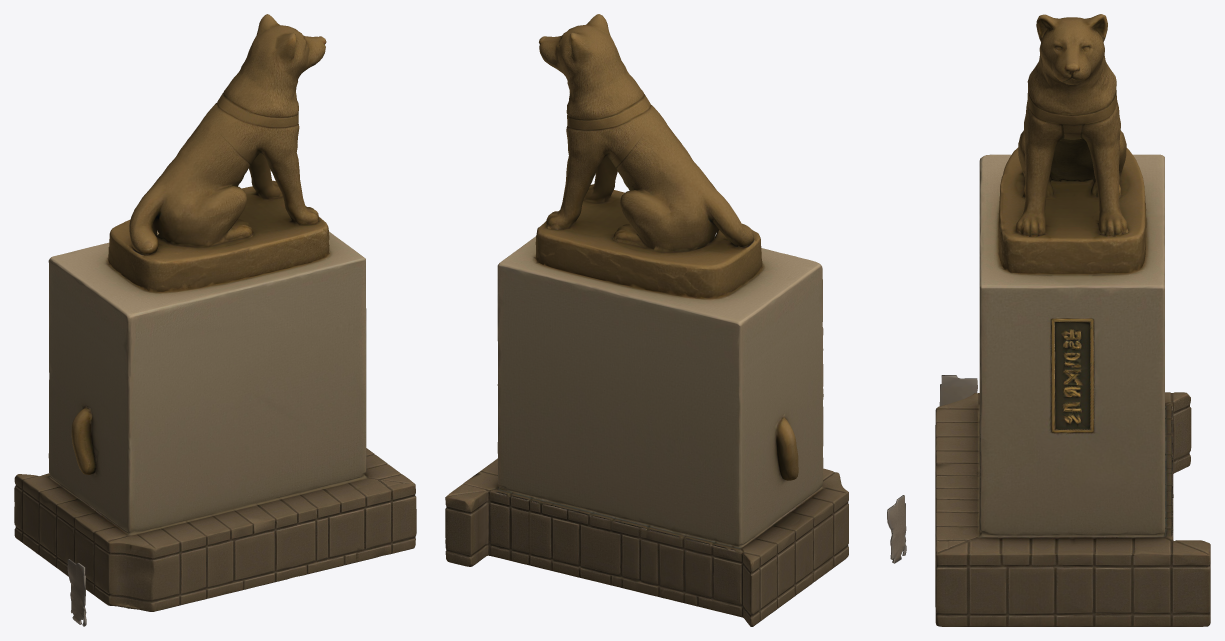
File: hatiko.glb
3 renders of one model, left to right at view 1: azimuth 30°, elevation 25°; view 2: azimuth 150°, elevation 25°; view 3: azimuth 270°, elevation 25°, orthographic. The views are drawn at different scales.
Visible parts, largest first — view 1: tripo_node_eca67d15-d7b6-49bf-a581-633313dbb0bb; view 2: tripo_node_eca67d15-d7b6-49bf-a581-633313dbb0bb; view 3: tripo_node_eca67d15-d7b6-49bf-a581-633313dbb0bb.
Part boxes in pixels (box(x1,y1,x2,y2)): tripo_node_eca67d15-d7b6-49bf-a581-633313dbb0bb: box(14, 14, 416, 626); tripo_node_eca67d15-d7b6-49bf-a581-633313dbb0bb: box(445, 14, 906, 626); tripo_node_eca67d15-d7b6-49bf-a581-633313dbb0bb: box(935, 14, 1210, 626).
Size of the model in its own units: 0.6824 by 0.9806 by 0.4291.
Materials: 1 (1 with a texture image).
